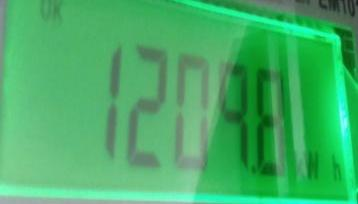.: (292, 149, 343, 187)
0: (247, 163, 259, 175)
1: (173, 51, 214, 167)
2: (103, 38, 125, 157)
3: (125, 48, 173, 166)
9: (254, 64, 287, 180)
:: (216, 61, 251, 168)
